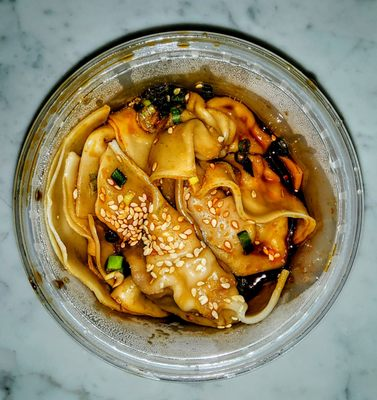sushi: (0, 24, 364, 364)
